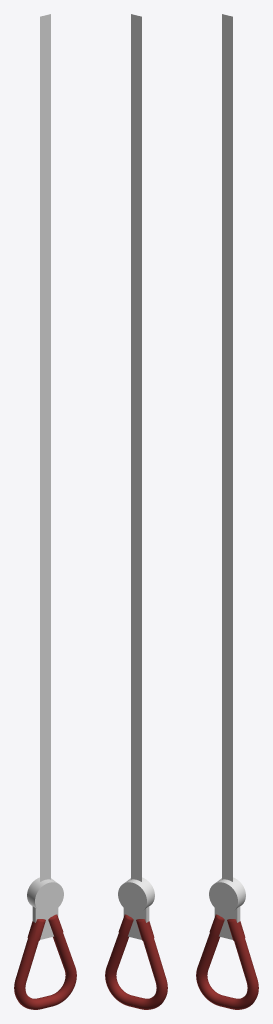
The model's file is mdl_zesty_ttchandle.gltf.
3 renders of one model, left to right at view 1: azimuth 30°, elevation 25°; view 2: azimuth 150°, elevation 25°; view 3: azimuth 330°, elevation 25°, orthographic.
Visible parts, largest first — view 1: mdl_zesty_ttchandle; view 2: mdl_zesty_ttchandle; view 3: mdl_zesty_ttchandle.
Boxes of the visible parts, left/top/right/bottom form: mdl_zesty_ttchandle: left=14, top=14, right=76, bottom=1009; mdl_zesty_ttchandle: left=105, top=14, right=167, bottom=1009; mdl_zesty_ttchandle: left=196, top=14, right=258, bottom=1009.
Bounding box in the file's own units: 2.73 × 42.28 × 0.6158.
